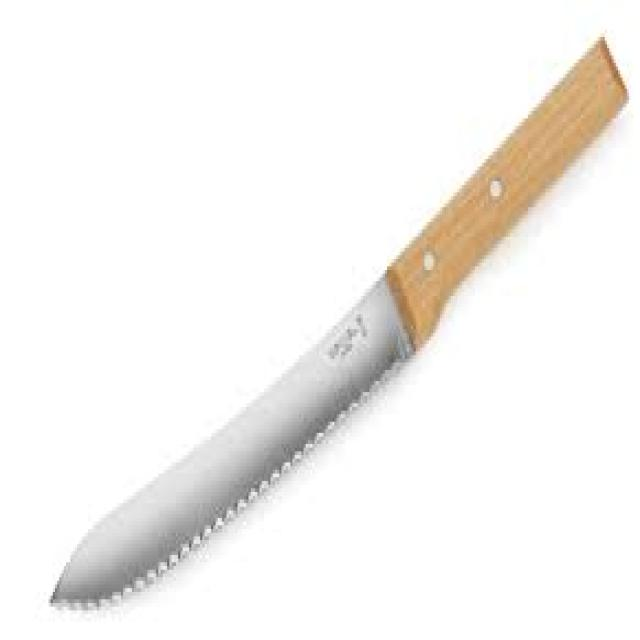Knife: (48, 37, 625, 607)
